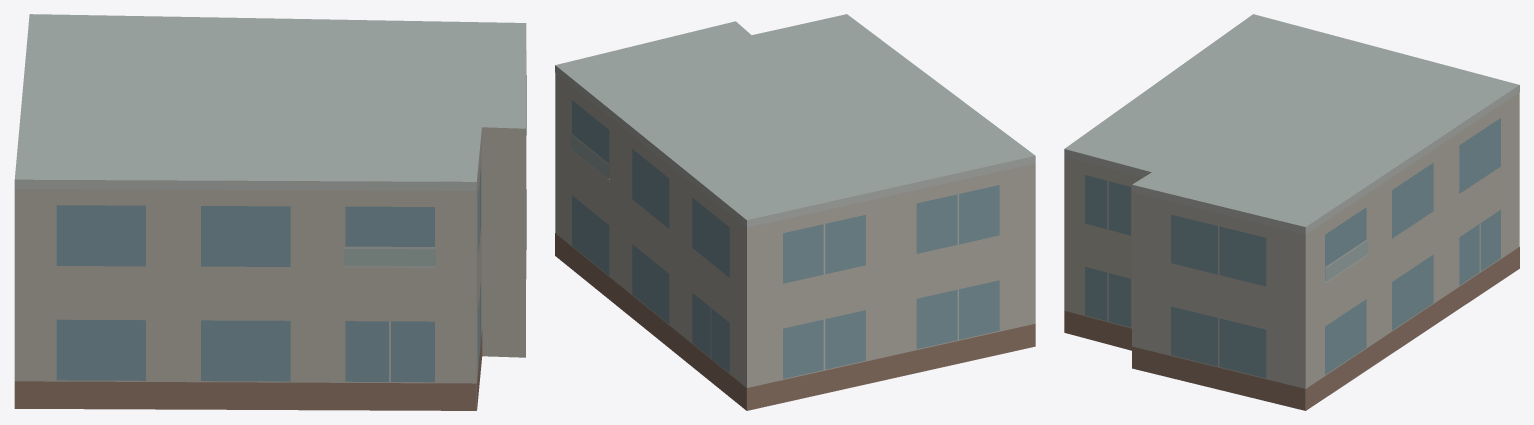
File: survey-upis-32775902.glb
3 renders of one model, left to right at view 1: azimuth 30°, elevation 25°; view 2: azimuth 150°, elevation 25°; view 3: azimuth 270°, elevation 25°, orthographic. The views are drawn at different scales.
Parts seen in each view (by area): view 1: survey-upis-32775902.tmp; view 2: survey-upis-32775902.tmp; view 3: survey-upis-32775902.tmp.
Boxes of the visible parts, left/top/right/bottom form: survey-upis-32775902.tmp: left=14, top=14, right=526, bottom=410; survey-upis-32775902.tmp: left=555, top=14, right=1035, bottom=410; survey-upis-32775902.tmp: left=1064, top=14, right=1519, bottom=410.
Bounding box in the file's own units: 15.18 × 6.1 × 13.71.
